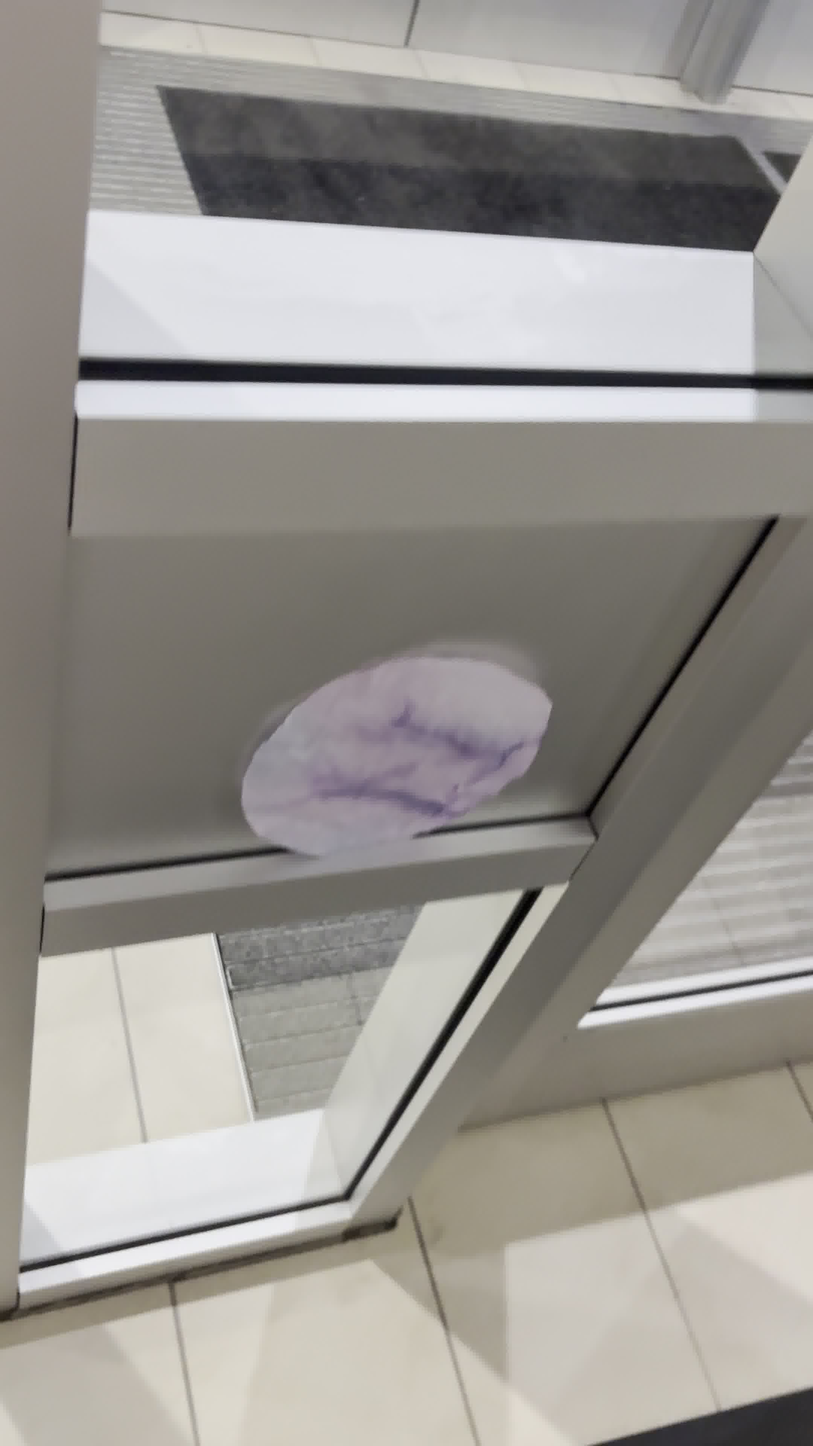Target: (231, 647, 559, 867)
